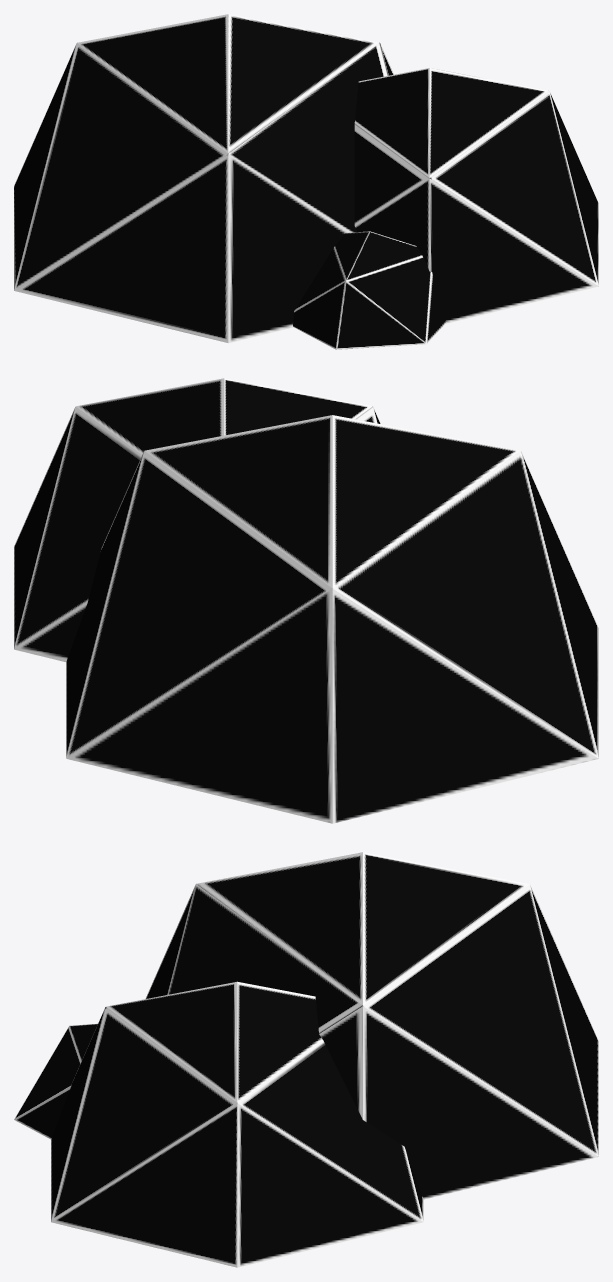
File: Rock.FBX
3 views of the same model, one above another, from view 1: azimuth 30°, elevation 25°; view 2: azimuth 150°, elevation 25°; view 3: azimuth 270°, elevation 25° (orthographic). The views are drawn at different scales.
Visible parts, largest first — view 1: GeoSphere001; view 2: GeoSphere001; view 3: GeoSphere001.
Part boxes in pixels (x1=…): GeoSphere001: x1=14, y1=14, x2=598, y2=349; GeoSphere001: x1=14, y1=378, x2=598, y2=823; GeoSphere001: x1=14, y1=852, x2=598, y2=1267.
Bounding box in the file's own units: 2.38 × 0.9652 × 2.07.
